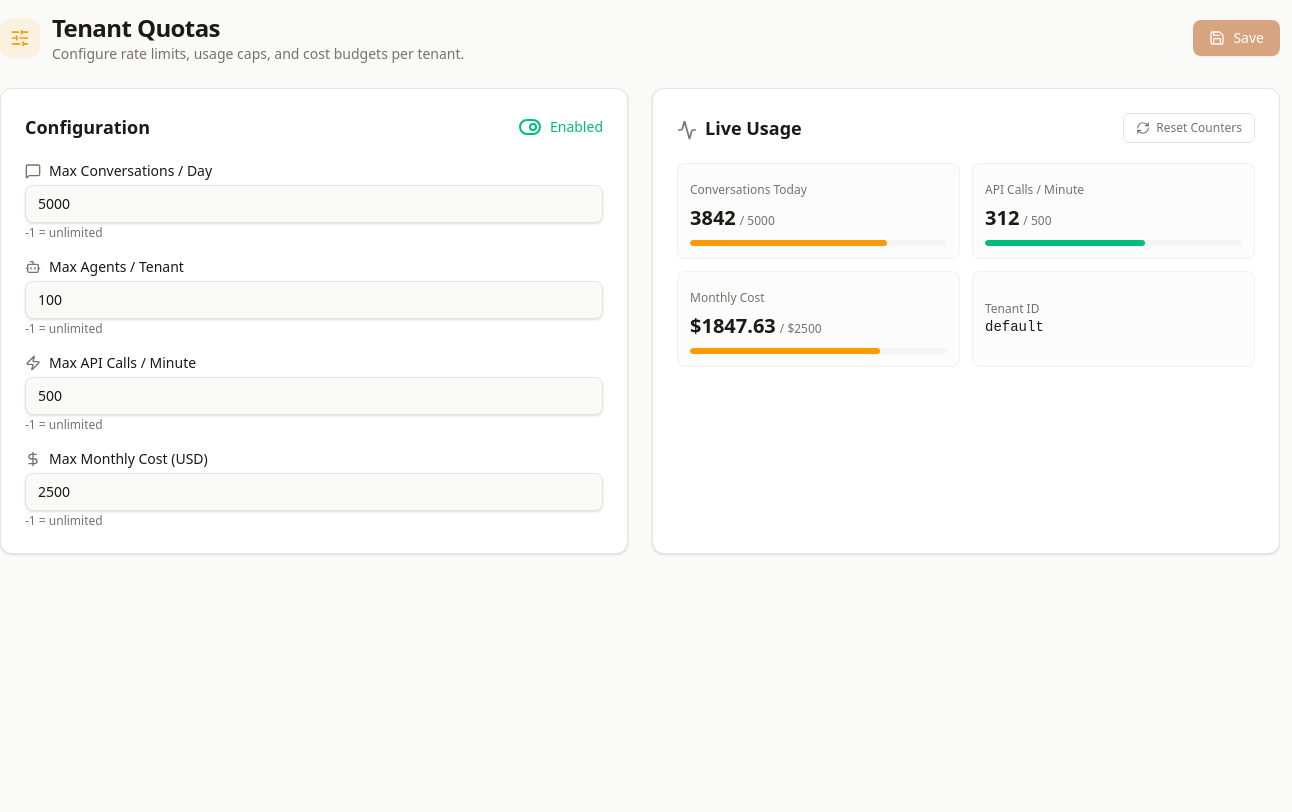
Scenario: QuotasPage › toggles enforcement off and shows disabled banner
Click the button with test id "quotas-toggle-enabled": (560, 127) [518,115,603,139]
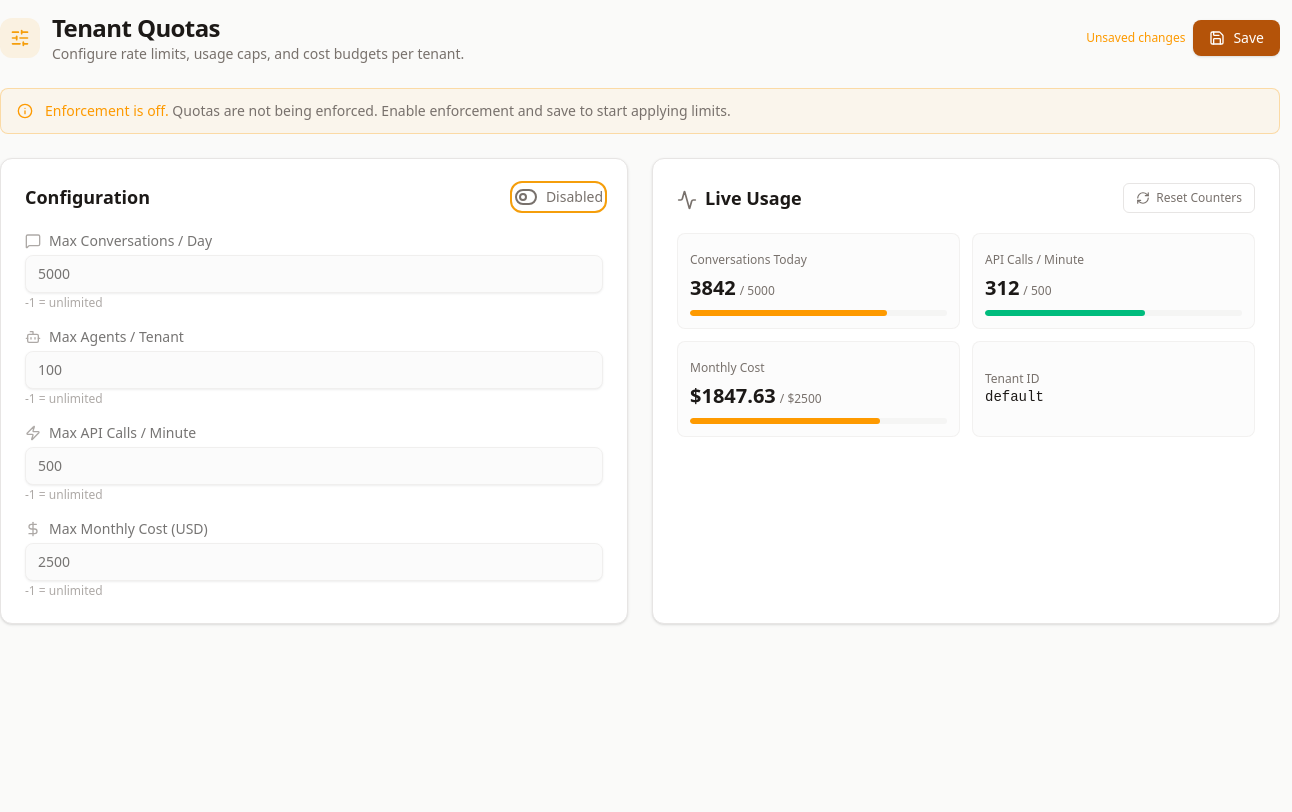
Check: the text "Disabled" is shown, box [546,187,603,207]
Check: the element with test id "quotas-disabled-banner" is shown, box [0,88,1280,134]
